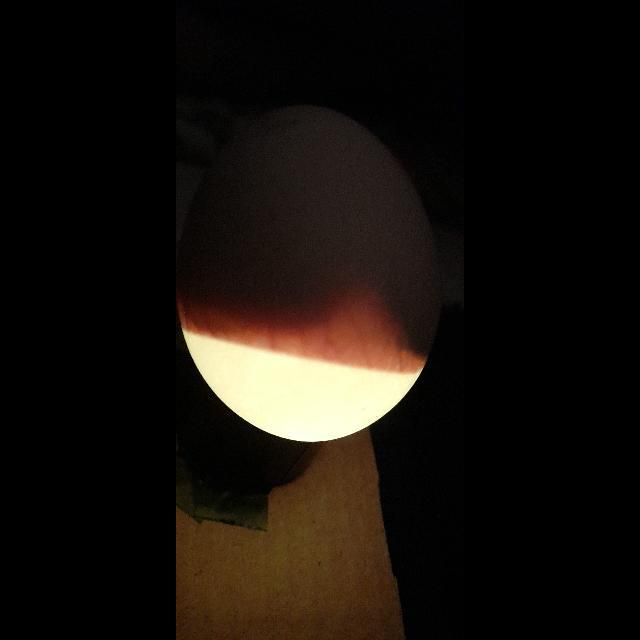Fertile: (185, 99, 447, 449)
